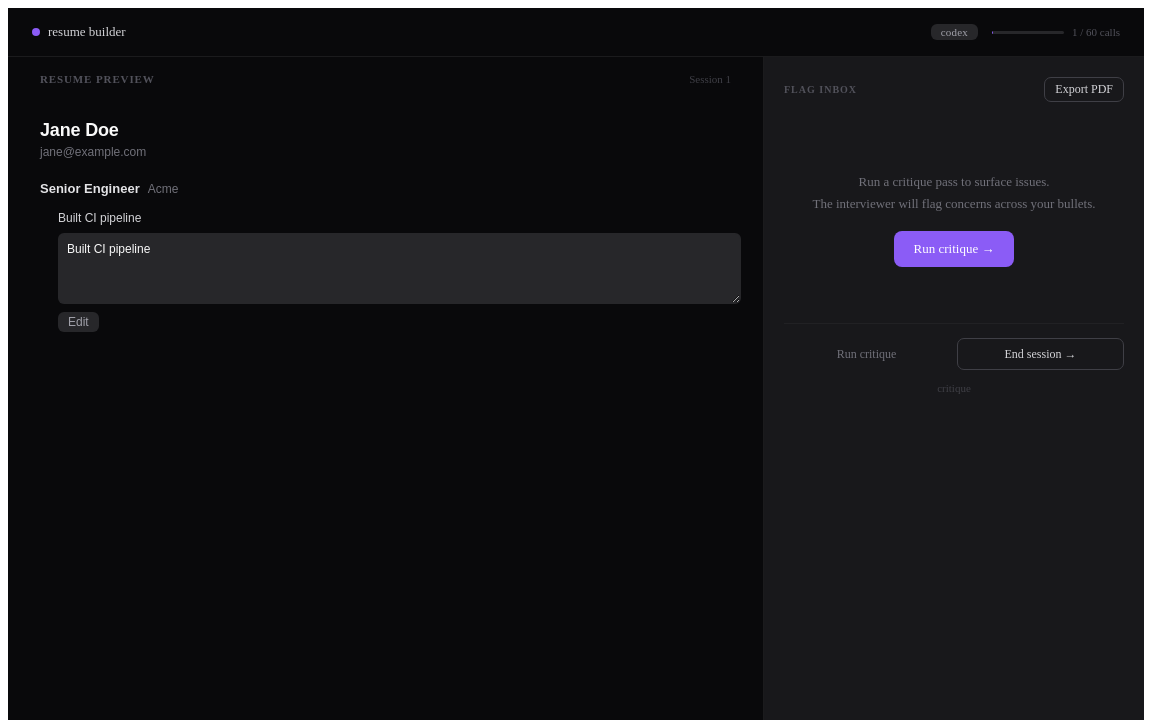
Test: <SessionScreen /> › fetches the session, consumes SSE critique events, and renders flags
Click the button with test id "run-critique" showing "Run critique →": (954,249) [894,231,1014,267]
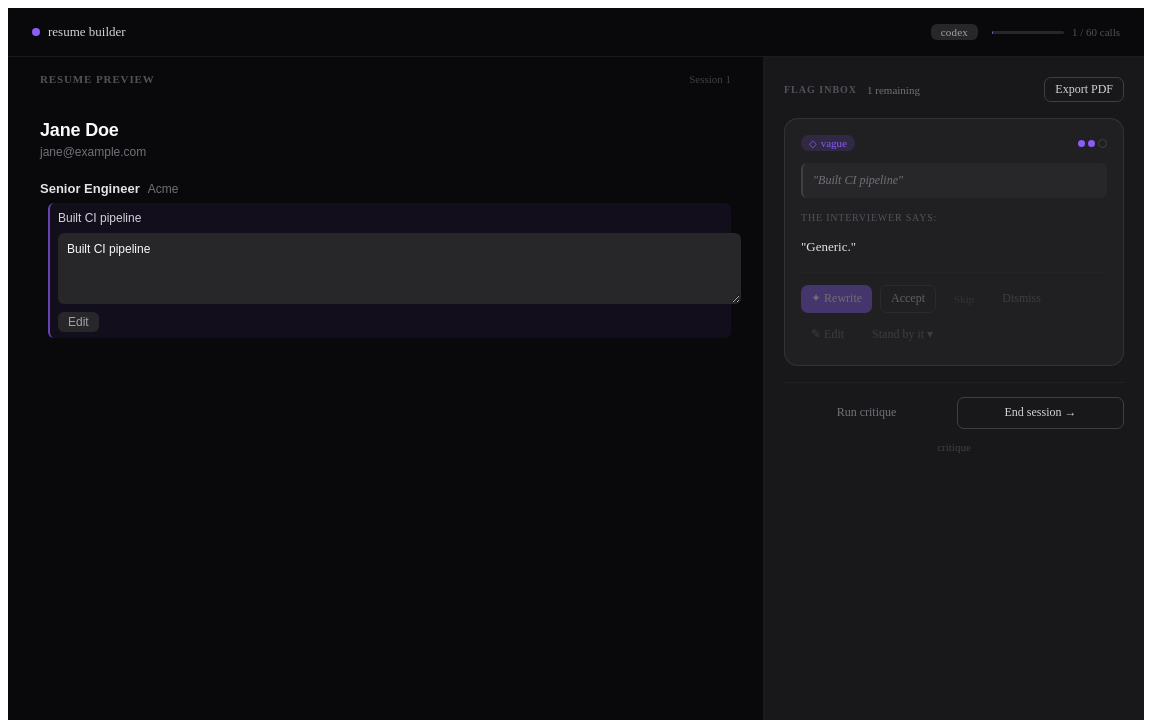
Expected: the text "Resume Preview" is shown, [40,73,155,85]
Now the text "Generic." is shown, box [806,239,851,254]
